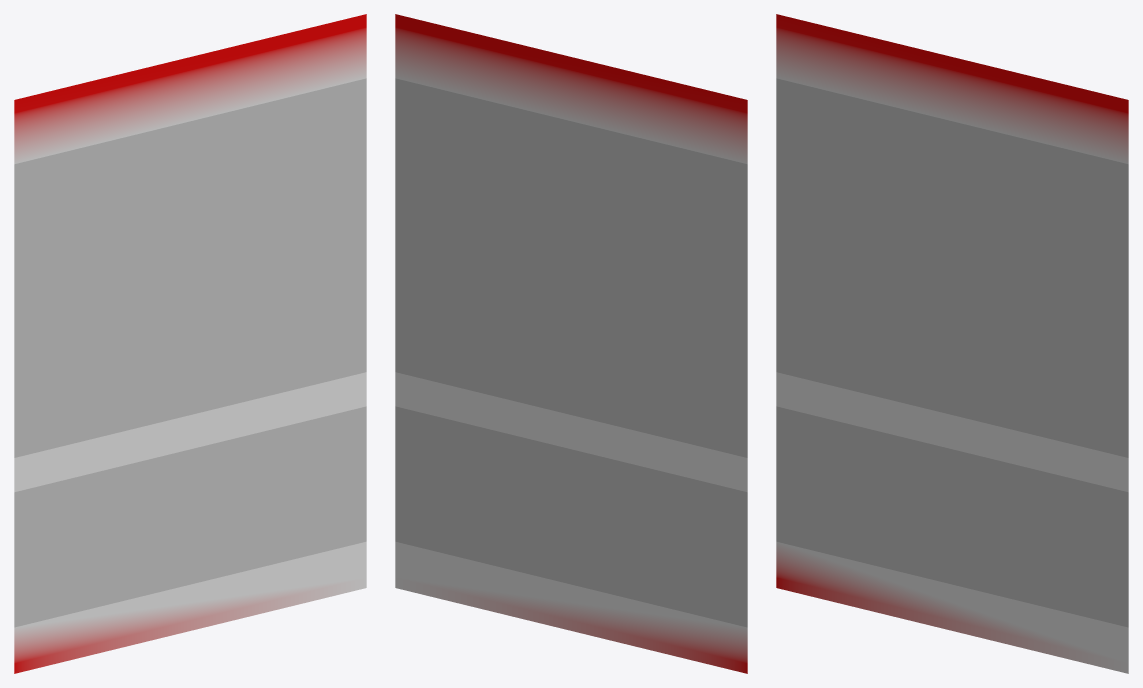
The picture shows the model from 3 angles, left to right: view 1: azimuth 30°, elevation 25°; view 2: azimuth 150°, elevation 25°; view 3: azimuth 330°, elevation 25°; orthographic projection.
Visible parts, largest first — view 1: SM_Bathroom_Wall_01_LOD0; view 2: SM_Bathroom_Wall_01_LOD0; view 3: SM_Bathroom_Wall_01_LOD0.
Boxes of the visible parts, x1=… form: SM_Bathroom_Wall_01_LOD0: x1=14, y1=14, x2=366, y2=673; SM_Bathroom_Wall_01_LOD0: x1=395, y1=14, x2=747, y2=673; SM_Bathroom_Wall_01_LOD0: x1=776, y1=14, x2=1128, y2=673.
Size of the model in its own units: 225 by 2.68e-05 by 350.
